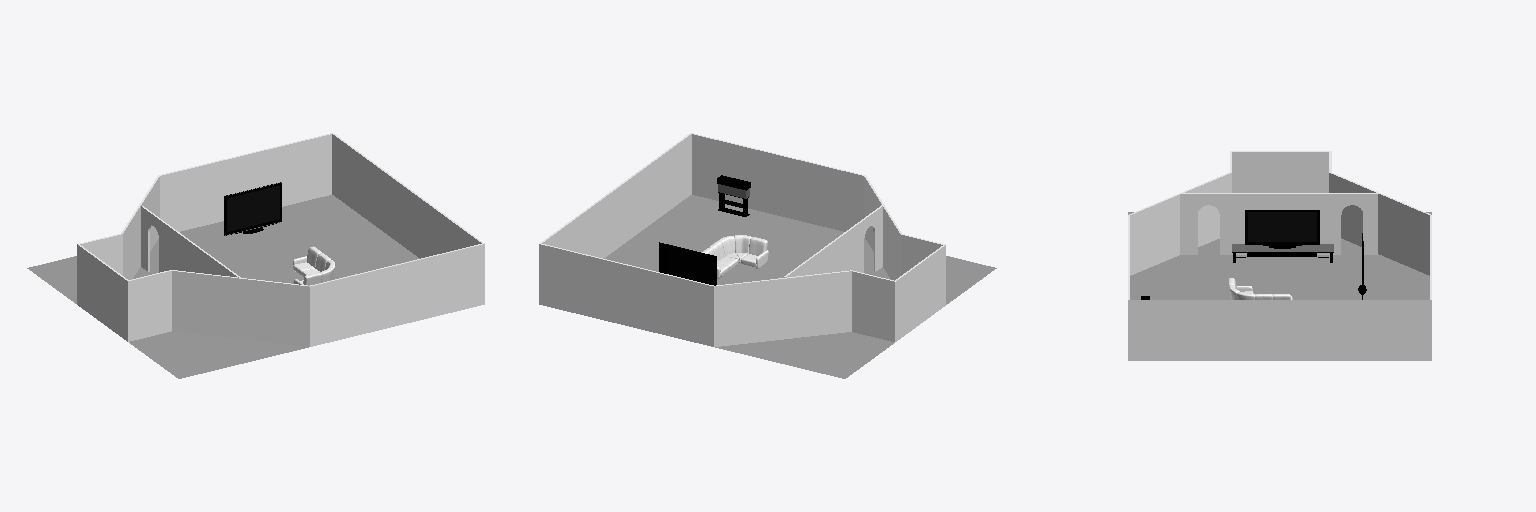
The picture shows the model from 3 angles: view 1: azimuth 30°, elevation 25°; view 2: azimuth 150°, elevation 25°; view 3: azimuth 270°, elevation 25°; orthographic projection.
Parts seen in each view (by area): view 1: ground_1, wall_3_17, wall_1_5, wall_13_59, wall_2_11, wall_9_41, wall_4_22, wall_10_47, wall_6_29, 107, wall_11_53, wall_8_34; view 2: ground_1, wall_1_4, wall_3_16, wall_11_52, wall_4_22, wall_9_41, wall_2_11, wall_8_35, wall_6_29, Frame_Shape19_109, wall_13_58, wall_10_46; view 3: ground_1, wall_2_10, wall_4_23, wall_6_28, wall_11_53, wall_13_58, wall_9_40, 67, sweethome3d_window_pane_82, Frame_Shape19_69.
Part boxes in pixels (x1,y1,x2,y2): ground_1: (27,195,419,378); wall_3_17: (310,244,484,346); wall_1_5: (160,134,331,231); wall_13_59: (172,271,309,346); wall_2_11: (332,134,406,248); wall_9_41: (77,244,127,341); wall_4_22: (407,189,481,258); wall_10_47: (128,271,171,341); wall_6_29: (141,206,238,277); 107: (227,186,279,231); wall_11_53: (123,177,159,279); wall_8_34: (80,234,122,275); ground_1: (604,195,996,378); wall_1_4: (539,244,713,346); wall_3_16: (692,134,863,231); wall_11_52: (714,271,851,346); wall_4_22: (617,134,691,248); wall_9_41: (895,245,945,341); wall_2_11: (542,189,616,258); wall_8_35: (852,271,894,341); wall_6_29: (784,206,882,277); Frame_Shape19_109: (659,242,716,285); wall_13_58: (864,177,900,280); wall_10_46: (901,235,942,275); ground_1: (1128,212,1431,299); wall_2_10: (1280,300,1431,360); wall_4_23: (1128,300,1279,360); wall_6_28: (1180,194,1377,254); wall_11_53: (1329,173,1429,275); wall_13_58: (1130,173,1231,275); wall_9_40: (1232,152,1328,192); 67: (1248,212,1316,241); sweethome3d_window_pane_82: (1232,244,1333,251); Frame_Shape19_69: (1245,210,1319,244).
Bounding box in the file's own units: 1289 × 244 × 1107.